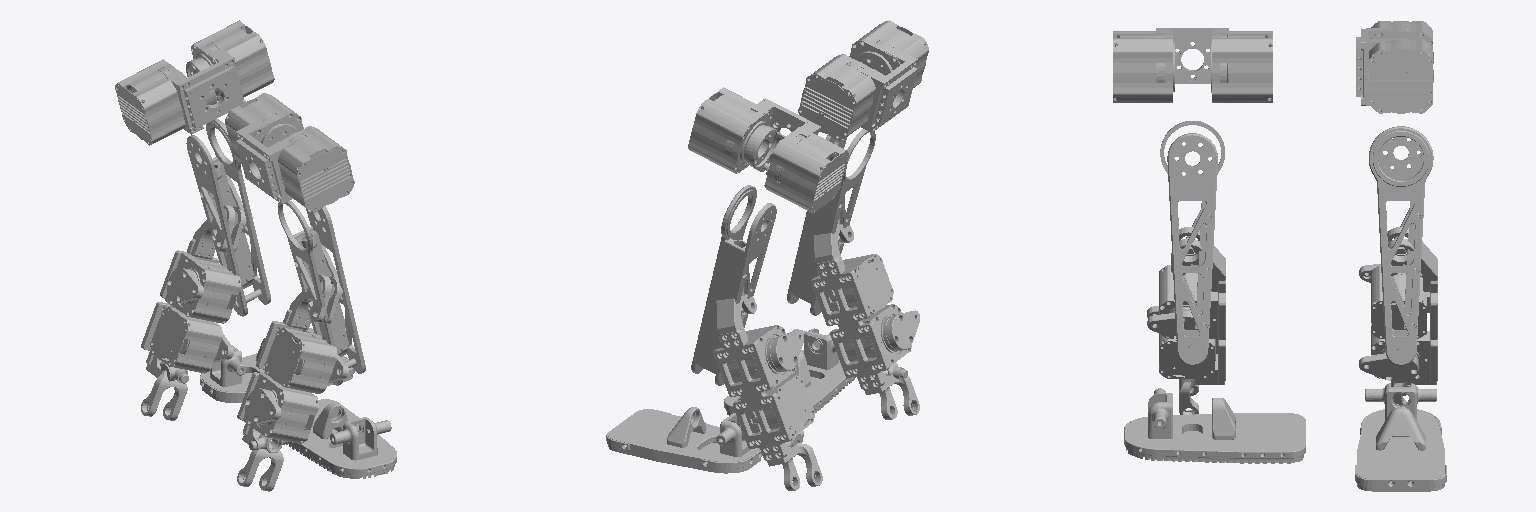
URDF robot description (clpai_12dof_0905):
<?xml version="1.0" encoding="utf-8"?>
<!--
This URDF was automatically created by SolidWorks to URDF Exporter! Originally created by [author] ([email redacted])
Commit Version: 1.6.0-4-g7f85cfe  Build Version: 1.6.7995.38578
For more information, please see http://wiki.ros.org/sw_urdf_exporter
-->
<robot name="clpai_12dof_0905">
	<!--
	<transmission name="l_hip_pitch_tran">
	<type>
	transmission_interface/SimpleTransmission
	</type>
	<joint name="l_hip_pitch_joint">
	<hardwareInterface>
	hardware_interface/EffortJointInterface
	</hardwareInterface>
	</joint>
	<actuator name="l_hip_pitch_motor">
	<hardwareInterface>
	hardware_interface/EffortJointInterface
	</hardwareInterface>
	<mechanicalReduction>
	1
	</mechanicalReduction>
	</actuator>
	</transmission>
	<transmission name="l_hip_roll_tran">
	<type>
	transmission_interface/SimpleTransmission
	</type>
	<joint name="l_hip_roll_joint">
	<hardwareInterface>
	hardware_interface/EffortJointInterface
	</hardwareInterface>
	</joint>
	<actuator name="l_hip_roll_motor">
	<hardwareInterface>
	hardware_interface/EffortJointInterface
	</hardwareInterface>
	<mechanicalReduction>
	1
	</mechanicalReduction>
	</actuator>
	</transmission>
	<transmission name="l_thigh_tran">
	<type>
	transmission_interface/SimpleTransmission
	</type>
	<joint name="l_thigh_joint">
	<hardwareInterface>
	hardware_interface/EffortJointInterface
	</hardwareInterface>
	</joint>
	<actuator name="l_thigh_motor">
	<hardwareInterface>
	hardware_interface/EffortJointInterface
	</hardwareInterface>
	<mechanicalReduction>
	1
	</mechanicalReduction>
	</actuator>
	</transmission>
	<transmission name="l_calf_tran">
	<type>
	transmission_interface/SimpleTransmission
	</type>
	<joint name="l_calf_joint">
	<hardwareInterface>
	hardware_interface/EffortJointInterface
	</hardwareInterface>
	</joint>
	<actuator name="l_calf_motor">
	<hardwareInterface>
	hardware_interface/EffortJointInterface
	</hardwareInterface>
	<mechanicalReduction>
	1
	</mechanicalReduction>
	</actuator>
	</transmission>
	<transmission name="l_ankle_pitch_tran">
	<type>
	transmission_interface/SimpleTransmission
	</type>
	<joint name="l_ankle_pitch_joint">
	<hardwareInterface>
	hardware_interface/EffortJointInterface
	</hardwareInterface>
	</joint>
	<actuator name="l_ankle_pitch_motor">
	<hardwareInterface>
	hardware_interface/EffortJointInterface
	</hardwareInterface>
	<mechanicalReduction>
	1
	</mechanicalReduction>
	</actuator>
	</transmission>
	<transmission name="l_ankle_roll_tran">
	<type>
	transmission_interface/SimpleTransmission
	</type>
	<joint name="l_ankle_roll_joint">
	<hardwareInterface>
	hardware_interface/EffortJointInterface
	</hardwareInterface>
	</joint>
	<actuator name="l_ankle_roll_motor">
	<hardwareInterface>
	hardware_interface/EffortJointInterface
	</hardwareInterface>
	<mechanicalReduction>
	1
	</mechanicalReduction>
	</actuator>
	</transmission>
	<transmission name="r_hip_pitch_tran">
	<type>
	transmission_interface/SimpleTransmission
	</type>
	<joint name="r_hip_pitch_joint">
	<hardwareInterface>
	hardware_interface/EffortJointInterface
	</hardwareInterface>
	</joint>
	<actuator name="r_hip_pitch_motor">
	<hardwareInterface>
	hardware_interface/EffortJointInterface
	</hardwareInterface>
	<mechanicalReduction>
	1
	</mechanicalReduction>
	</actuator>
	</transmission>
	<transmission name="r_hip_roll_tran">
	<type>
	transmission_interface/SimpleTransmission
	</type>
	<joint name="r_hip_roll_joint">
	<hardwareInterface>
	hardware_interface/EffortJointInterface
	</hardwareInterface>
	</joint>
	<actuator name="r_hip_roll_motor">
	<hardwareInterface>
	hardware_interface/EffortJointInterface
	</hardwareInterface>
	<mechanicalReduction>
	1
	</mechanicalReduction>
	</actuator>
	</transmission>
	<transmission name="r_thigh_tran">
	<type>
	transmission_interface/SimpleTransmission
	</type>
	<joint name="r_thigh_joint">
	<hardwareInterface>
	hardware_interface/EffortJointInterface
	</hardwareInterface>
	</joint>
	<actuator name="r_thigh_motor">
	<hardwareInterface>
	hardware_interface/EffortJointInterface
	</hardwareInterface>
	<mechanicalReduction>
	1
	</mechanicalReduction>
	</actuator>
	</transmission>
	<transmission name="r_calf_tran">
	<type>
	transmission_interface/SimpleTransmission
	</type>
	<joint name="r_calf_joint">
	<hardwareInterface>
	hardware_interface/EffortJointInterface
	</hardwareInterface>
	</joint>
	<actuator name="r_calf_motor">
	<hardwareInterface>
	hardware_interface/EffortJointInterface
	</hardwareInterface>
	<mechanicalReduction>
	1
	</mechanicalReduction>
	</actuator>
	</transmission>
	<transmission name="r_ankle_pitch_tran">
	<type>
	transmission_interface/SimpleTransmission
	</type>
	<joint name="r_ankle_pitch_joint">
	<hardwareInterface>
	hardware_interface/EffortJointInterface
	</hardwareInterface>
	</joint>
	<actuator name="r_ankle_pitch_motor">
	<hardwareInterface>
	hardware_interface/EffortJointInterface
	</hardwareInterface>
	<mechanicalReduction>
	1
	</mechanicalReduction>
	</actuator>
	</transmission>
	<transmission name="r_ankle_roll_tran">
	<type>
	transmission_interface/SimpleTransmission
	</type>
	<joint name="r_ankle_roll_joint">
	<hardwareInterface>
	hardware_interface/EffortJointInterface
	</hardwareInterface>
	</joint>
	<actuator name="r_ankle_roll_motor">
	<hardwareInterface>
	hardware_interface/EffortJointInterface
	</hardwareInterface>
	<mechanicalReduction>
	1
	</mechanicalReduction>
	</actuator>
	</transmission>
	-->
	<!--
	<gazebo>
	<plugin name="gazebo_ros_control" filename="libgazebo_ros_control.so">
	<robotNamespace>
	/pai_cl_12_240823
	</robotNamespace>
	<robotSimType>
	gazebo_ros_control/DefaultRobotHWSim
	</robotSimType>
	</plugin>
	</gazebo>
	-->
	<mujoco>
		<compiler meshdir="../meshes/" balanceinertia="true" discardvisual="false" />
	</mujoco>
	<link name="base_link">
		<inertial>
			<origin xyz="0.00242324 -5.699E-05 0.04030078" rpy="0 0 0" />
			<mass value="2.1609" />
			<inertia ixx="0.00900968" ixy="-2.533E-05" ixz="-0.00013112" iyy="0.00978166" iyz="2E-07" izz="0.00416554" />
		</inertial>
		<visual>
			<origin xyz="0 0 0" rpy="0 0 0" />
			<geometry>
				<!-- <box size="0.1 0.1 0.1" /> -->
				<mesh filename="../meshes/baselink_1.STL" />
			</geometry>
			<material name="">
				<color rgba="1 1 1 1" />
			</material>
		</visual>
		<collision>
			<origin xyz="0 0 0.08" rpy="0 0 0" />
			<geometry>
				<box size="0.1 0.1 0.1" />
				<!-- <mesh filename="../meshes/base_link.STL" /> -->
			</geometry>
		</collision>
	</link>
	<link name="r_hip_pitch_link">
		<inertial>
			<origin xyz="0.00089428 -0.05527744 -0.00027276" rpy="0 0 0" />
			<mass value="0.36999771" />
			<inertia ixx="8.307E-05" ixy="2E-07" ixz="-5E-08" iyy="9.81E-05" iyz="-7E-07" izz="0.0001085" />
		</inertial>
		<visual>
			<origin xyz="0 0 0" rpy="0 0 0" />
			<geometry>
				<mesh filename="../meshes/r_hip_pitch_link.STL" />
			</geometry>
			<material name="">
				<color rgba="0.75294 0.75294 0.75294 1" />
			</material>
		</visual>
		<collision>
			<origin xyz="0 0 0" rpy="0 0 0" />
			<geometry>
				<box size="0.001 0.001 0.001" />
				<!-- <mesh filename="../meshes/r_hip_pitch_link.STL" /> -->
			</geometry>
		</collision>
	</link>
	<joint name="r_hip_pitch_joint" type="revolute">
		<origin xyz="-5.1979E-05 -0.0233 -0.033" rpy="0 -0.25 0" />
		<parent link="base_link" />
		<child link="r_hip_pitch_link" />
		<axis xyz="0 1 0" />
		<limit lower="-1.25" upper="1.75" effort="21" velocity="21" />
	</joint>
	<link name="r_hip_roll_link">
		<inertial>
			<origin xyz="-0.00180153 0.00025956 -0.0608194" rpy="0 0 0" />
			<mass value="0.38851552" />
			<inertia ixx="0.00027042" ixy="3.9E-07" ixz="3.312E-05" iyy="0.0003342" iyz="8.7E-07" izz="0.00013617" />
		</inertial>
		<visual>
			<origin xyz="0 0 0" rpy="0 0 0" />
			<geometry>
				<mesh filename="../meshes/r_hip_roll_link.STL" />
			</geometry>
			<material name="">
				<color rgba="0.75294 0.75294 0.75294 1" />
			</material>
		</visual>
		<collision>
			<origin xyz="0 0 0" rpy="0 0 0" />
			<geometry>
				<box size="0.001 0.001 0.001" />
				<!-- <mesh filename="../meshes/r_hip_roll_link.STL" /> -->
			</geometry>
		</collision>
	</link>
	<joint name="r_hip_roll_joint" type="revolute">
		<origin xyz="0.00025 -0.0568 0" rpy="0 0 0" />
		<parent link="r_hip_pitch_link" />
		<child link="r_hip_roll_link" />
		<axis xyz="1 0 0" />
		<limit lower="-0.5" upper="0.12" effort="21" velocity="21" />
	</joint>
	<link name="r_thigh_link">
		<inertial>
			<origin xyz="0 0.00116854 -0.04755896" rpy="0 0 0" />
			<mass value="0.11270879" />
			<inertia ixx="0.00012496" ixy="0" ixz="0" iyy="5.82E-05" iyz="3.19E-06" izz="9.438E-05" />
		</inertial>
		<visual>
			<origin xyz="0 0 0" rpy="0 0 0" />
			<geometry>
				<mesh filename="../meshes/r_thigh_link.STL" />
			</geometry>
			<material name="">
				<color rgba="0.75294 0.75294 0.75294 1" />
			</material>
		</visual>
		<collision>
			<origin xyz="0 0 0" rpy="0 0 0" />
			<geometry>
				<box size="0.001 0.001 0.001" />
				<!-- <mesh filename="../meshes/r_thigh_link.STL" /> -->
			</geometry>
		</collision>
	</link>
	<joint name="r_thigh_joint" type="revolute">
		<origin xyz="-0.00025 0 -0.06925" rpy="0 0 0" />
		<parent link="r_hip_roll_link" />
		<child link="r_thigh_link" />
		<axis xyz="0 0 1" />
		<limit lower="-0.6" upper="0.3" effort="21" velocity="21" />
	</joint>
	<link name="r_calf_link">
		<inertial>
			<origin xyz="-0.00026627 -0.00116537 -0.06971210" rpy="0 0 0" />
			<mass value="0.81374212" />
			<inertia ixx="0.00352123" ixy="0.00000020" ixz="-0.00000072" iyy="0.00349946" iyz="-0.00002072" izz="0.00017468" />
		</inertial>
		<visual>
			<origin xyz="0 0 0" rpy="0 0 0" />
			<geometry>
				<mesh filename="../meshes/r_calf_link.STL" />
			</geometry>
			<material name="">
				<color rgba="0.75294 0.75294 0.75294 1" />
			</material>
		</visual>
		<collision>
			<origin xyz="0 0 0" rpy="0 0 0" />
			<geometry>
				<box size="0.001 0.001 0.001" />
				<!-- <mesh filename="../meshes/r_calf_link.STL" /> -->
			</geometry>
		</collision>
	</link>
	<joint name="r_calf_joint" type="revolute">
		<origin xyz="0 -0.0027 -0.07025" rpy="0 0.65 0" />
		<parent link="r_thigh_link" />
		<child link="r_calf_link" />
		<axis xyz="0 1 0" />
		<limit lower="-0.65" upper="1.65" effort="21" velocity="21" />
	</joint>
	<link name="r_ankle_pitch_link">
		<inertial>
			<origin xyz="0.00467932 0.00347699 0" rpy="0 0 0" />
			<mass value="0.1759244" />
			<inertia ixx="0.00011981" ixy="6.4E-07" ixz="0" iyy="0.00022179" iyz="0" izz="0.00030766" />
		</inertial>
		<visual>
			<origin xyz="0 0 0" rpy="0 0 0" />
			<geometry>
				<mesh filename="../meshes/r_ankle_pitch_link.STL" />
			</geometry>
			<material name="">
				<color rgba="0.75294 0.75294 0.75294 1" />
			</material>
		</visual>
		<collision>
			<origin xyz="0 0 0" rpy="0 0 0" />
			<geometry>
				<box size="0.078 0.08 0.05" />
				<!-- <mesh filename="../meshes/r_ankle_pitch_link.STL" /> -->
			</geometry>
		</collision>
	</link>
	<joint name="r_ankle_pitch_joint" type="revolute">
		<origin xyz="0 0 -0.14" rpy="0 -0.4 0" />
		<parent link="r_calf_link" />
		<child link="r_ankle_pitch_link" />
		<axis xyz="0 1 0" />
		<limit lower="-0.5" upper="1.3" effort="21" velocity="21" />
	</joint>
	<link name="r_ankle_roll_link">
		<inertial>
			<origin xyz="-0.02383679 0.00019256 -0.0144649" rpy="0 0 0" />
			<mass value="0.51868476" />
			<inertia ixx="0.0003308" ixy="-2.49E-06" ixz="-0.00018245" iyy="0.00113168" iyz="-1.06E-06" izz="0.00098381" />
		</inertial>
		<visual>
			<origin xyz="0 0 0" rpy="0 0 0" />
			<geometry>
				<mesh filename="../meshes/r_ankle_roll_link.STL" />
			</geometry>
			<material name="">
				<color rgba="0.75294 0.75294 0.75294 1" />
			</material>
		</visual>
		<collision>
			<origin xyz="0 0 0" rpy="0 0 0" />
			<geometry>
				<mesh filename="../meshes/r_ankle_roll_link.STL" />
			</geometry>
		</collision>
	</link>
	<joint name="r_ankle_roll_joint" type="revolute">
		<origin xyz="0.07525 0.0027 0" rpy="0 0 0" />
		<parent link="r_ankle_pitch_link" />
		<child link="r_ankle_roll_link" />
		<axis xyz="1 0 0" />
		<limit lower="-0.15" upper="0.15" effort="21" velocity="21" />
	</joint>
	<link name="l_hip_pitch_link">
		<inertial>
			<origin xyz="0.00086268 0.05441908 -0.00025859" rpy="0 0 0" />
			<mass value="0.38968624" />
			<inertia ixx="0.00010076" ixy="-4.2E-07" ixz="-4E-08" iyy="0.00010507" iyz="-3E-07" izz="0.00012834" />
		</inertial>
		<visual>
			<origin xyz="0 0 0" rpy="0 0 0" />
			<geometry>
				<mesh filename="../meshes/l_hip_pitch_link.STL" />
			</geometry>
			<material name="">
				<color rgba="0.75294 0.75294 0.75294 1" />
			</material>
		</visual>
		<collision>
			<origin xyz="0 0 0" rpy="0 0 0" />
			<geometry>
				<box size="0.001 0.001 0.001" />
				<!-- <mesh filename="../meshes/l_hip_pitch_link.STL" /> -->
			</geometry>
		</collision>
	</link>
	<joint name="l_hip_pitch_joint" type="revolute">
		<origin xyz="-5.1979E-05 0.0233 -0.033" rpy="0 -0.25 0" />
		<parent link="base_link" />
		<child link="l_hip_pitch_link" />
		<axis xyz="0 1 0" />
		<limit lower="-1.25" upper="1.75" effort="21" velocity="21" />
	</joint>
	<link name="l_hip_roll_link">
		<inertial>
			<origin xyz="-0.00207707 0.00026598 -0.0608194" rpy="0 0 0" />
			<mass value="0.38851552" />
			<inertia ixx="0.00027068" ixy="-7.6E-07" ixz="3.136E-05" iyy="0.0003332" iyz="8.8E-07" izz="0.00013543" />
		</inertial>
		<visual>
			<origin xyz="0 0 0" rpy="0 0 0" />
			<geometry>
				<mesh filename="../meshes/l_hip_roll_link.STL" />
			</geometry>
			<material name="">
				<color rgba="0.75294 0.75294 0.75294 1" />
			</material>
		</visual>
		<collision>
			<origin xyz="0 0 0" rpy="0 0 0" />
			<geometry>
				<box size="0.001 0.001 0.001" />
				<!-- <mesh filename="../meshes/l_hip_roll_link.STL" /> -->
			</geometry>
		</collision>
	</link>
	<joint name="l_hip_roll_joint" type="revolute">
		<origin xyz="0 0.0568 0" rpy="0 0 0" />
		<parent link="l_hip_pitch_link" />
		<child link="l_hip_roll_link" />
		<axis xyz="1 0 0" />
		<limit lower="-0.12" upper="0.5" effort="21" velocity="21" />
	</joint>
	<link name="l_thigh_link">
		<inertial>
			<origin xyz="0 -0.00115822 -0.04755896" rpy="0 0 0" />
			<mass value="0.11270879" />
			<inertia ixx="0.00012497" ixy="0" ixz="0" iyy="5.82E-05" iyz="-3.21E-06" izz="9.438E-05" />
		</inertial>
		<visual>
			<origin xyz="0 0 0" rpy="0 0 0" />
			<geometry>
				<mesh filename="../meshes/l_thigh_link.STL" />
			</geometry>
			<material name="">
				<color rgba="0.75294 0.75294 0.75294 1" />
			</material>
		</visual>
		<collision>
			<origin xyz="0 0 0" rpy="0 0 0" />
			<geometry>
				<box size="0.001 0.001 0.001" />
				<!-- <mesh filename="../meshes/l_thigh_link.STL" /> -->
			</geometry>
		</collision>
	</link>
	<joint name="l_thigh_joint" type="revolute">
		<origin xyz="0 0 -0.06925" rpy="0 0 0" />
		<parent link="l_hip_roll_link" />
		<child link="l_thigh_link" />
		<axis xyz="0 0 1" />
		<limit lower="-0.3" upper="0.6" effort="21" velocity="21" />
	</joint>
	<link name="l_calf_link">
		<inertial>
			<origin xyz="0.00026627 0.00386537 -0.06971210" rpy="0 0 0" />
			<mass value="0.81374212" />
			<inertia ixx="0.00352123" ixy="0.00000020" ixz="0.00000072" iyy="0.00349946" iyz="0.00002072" izz="0.00017468" />
		</inertial>
		<visual>
			<origin xyz="0 0 0" rpy="0 0 0" />
			<geometry>
				<mesh filename="../meshes/l_calf_link.STL" />
			</geometry>
			<material name="">
				<color rgba="0.75294 0.75294 0.75294 1" />
			</material>
		</visual>
		<collision>
			<origin xyz="0 0 0" rpy="0 0 0" />
			<geometry>
				<box size="0.001 0.001 0.001" />
				<!-- <mesh filename="../meshes/l_calf_link.STL" /> -->
			</geometry>
		</collision>
	</link>
	<joint name="l_calf_joint" type="revolute">
		<origin xyz="0 0 -0.07025" rpy="0 0.65 0" />
		<parent link="l_thigh_link" />
		<child link="l_calf_link" />
		<axis xyz="0 1 0" />
		<limit lower="-0.65" upper="1.65" effort="21" velocity="21" />
	</joint>
	<link name="l_ankle_pitch_link">
		<inertial>
			<origin xyz="0.00467932 -0.00077699 0" rpy="0 0 0" />
			<mass value="0.1759244" />
			<inertia ixx="0.00011981" ixy="-6.4E-07" ixz="0" iyy="0.00022179" iyz="0" izz="0.00030766" />
		</inertial>
		<visual>
			<origin xyz="0 0 0" rpy="0 0 0" />
			<geometry>
				<mesh filename="../meshes/l_ankle_pitch_link.STL" />
			</geometry>
			<material name="">
				<color rgba="0.75294 0.75294 0.75294 1" />
			</material>
		</visual>
		<collision>
			<origin xyz="0 0 0" rpy="0 0 0" />
			<geometry>
				<box size="0.078 0.08 0.05" />
				<!-- <mesh filename="../meshes/l_ankle_pitch_link.STL" /> -->
			</geometry>
		</collision>
	</link>
	<joint name="l_ankle_pitch_joint" type="revolute">
		<origin xyz="0 0 -0.14" rpy="0 -0.4 0" />
		<parent link="l_calf_link" />
		<child link="l_ankle_pitch_link" />
		<axis xyz="0 1 0" />
		<limit lower="-0.5" upper="1.3" effort="21" velocity="21" />
	</joint>
	<link name="l_ankle_roll_link">
		<inertial>
			<origin xyz="-0.02383679 0.00019256 -0.0144649" rpy="0 0 0" />
			<mass value="0.51868476" />
			<inertia ixx="0.0003308" ixy="-2.49E-06" ixz="-0.00018245" iyy="0.00113168" iyz="-1.06E-06" izz="0.00098381" />
		</inertial>
		<visual>
			<origin xyz="0 0 0" rpy="0 0 0" />
			<geometry>
				<mesh filename="../meshes/l_ankle_roll_link.STL" />
			</geometry>
			<material name="">
				<color rgba="0.75294 0.75294 0.75294 1" />
			</material>
		</visual>
		<collision>
			<origin xyz="0 0 0" rpy="0 0 0" />
			<geometry>
				<mesh filename="../meshes/l_ankle_roll_link.STL" />
			</geometry>
		</collision>
	</link>
	<joint name="l_ankle_roll_joint" type="revolute">
		<origin xyz="0.07525 0 0" rpy="0 0 0" />
		<parent link="l_ankle_pitch_link" />
		<child link="l_ankle_roll_link" />
		<axis xyz="1 0 0" />
		<limit lower="-0.15" upper="0.15" effort="21" velocity="21" />
	</joint>
</robot>

--- Facts derived from the render (not from the file) ---
3 views of the same robot in one strip: view 1: azimuth 30°, elevation 25°; view 2: azimuth 150°, elevation 25°; view 3: azimuth 270°, elevation 25° (orthographic).
Model clpai_12dof_0905 with 13 links and 12 joints (12 revolute), rooted at base_link, posed every joint at zero.
Visible links, largest first — view 1: r_calf_link, l_calf_link, l_hip_roll_link, r_hip_roll_link, l_thigh_link, r_thigh_link, r_ankle_roll_link, l_ankle_roll_link; view 2: l_calf_link, l_hip_roll_link, r_calf_link, r_hip_roll_link, l_ankle_roll_link, l_thigh_link, r_thigh_link, r_ankle_roll_link; view 3: r_hip_roll_link, r_ankle_roll_link, l_thigh_link, r_thigh_link, l_ankle_roll_link, l_hip_roll_link, r_calf_link, l_calf_link.
Boxes of the visible links, box(x1,y1,x2,y2) form: r_calf_link: box(237, 275, 348, 491); l_calf_link: box(141, 204, 246, 420); l_hip_roll_link: box(115, 20, 274, 145); r_hip_roll_link: box(225, 93, 354, 211); l_thigh_link: box(186, 119, 270, 316); r_thigh_link: box(278, 201, 365, 385); r_ankle_roll_link: box(286, 399, 396, 478); l_ankle_roll_link: box(200, 338, 354, 402); l_calf_link: box(713, 287, 822, 490); l_hip_roll_link: box(688, 87, 848, 213); r_calf_link: box(811, 216, 919, 419); r_hip_roll_link: box(798, 20, 928, 139); l_ankle_roll_link: box(606, 407, 761, 473); l_thigh_link: box(691, 185, 776, 385); r_thigh_link: box(787, 129, 875, 315); r_ankle_roll_link: box(724, 328, 855, 415); r_hip_roll_link: box(1113, 28, 1272, 102); r_ankle_roll_link: box(1124, 388, 1305, 463); l_thigh_link: box(1369, 126, 1433, 365); r_thigh_link: box(1160, 121, 1224, 365); l_ankle_roll_link: box(1355, 383, 1446, 491); l_hip_roll_link: box(1356, 21, 1433, 113); r_calf_link: box(1147, 227, 1225, 414); l_calf_link: box(1359, 227, 1437, 404).
Bounding box of the posed robot: 0.2075 × 0.2572 × 0.3487 m (x, y, z).
Meshes: 13 distinct files referenced, 10 mesh visuals loaded (10 binary STL); not drawn: 3 (reference not matched to a file when rendering).
